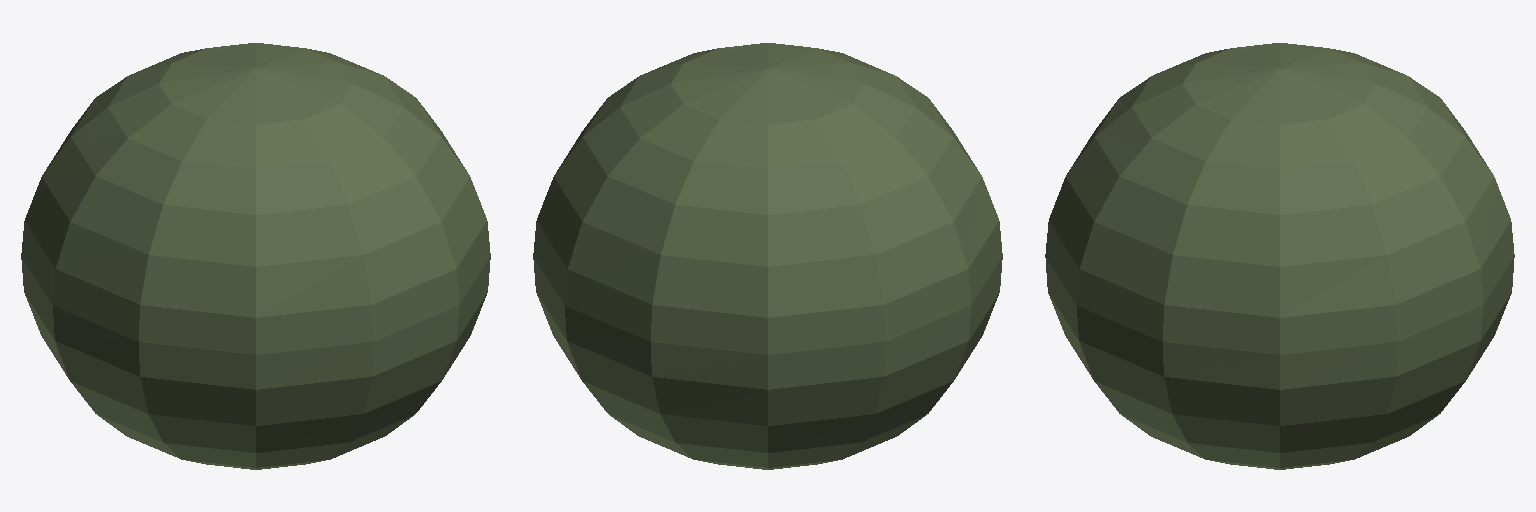
The model's file is Rose_Analytical_0.obj.
3 renders of one model, left to right at view 1: azimuth 30°, elevation 25°; view 2: azimuth 150°, elevation 25°; view 3: azimuth 270°, elevation 25°, orthographic.
Visible parts, largest first — view 1: AnalyticalCrown; view 2: AnalyticalCrown; view 3: AnalyticalCrown.
Boxes of the visible parts, x1=… form: AnalyticalCrown: x1=21, y1=43, x2=490, y2=469; AnalyticalCrown: x1=533, y1=43, x2=1002, y2=469; AnalyticalCrown: x1=1045, y1=43, x2=1514, y2=469.
Size of the model in its own units: 1.14 by 1 by 1.14.